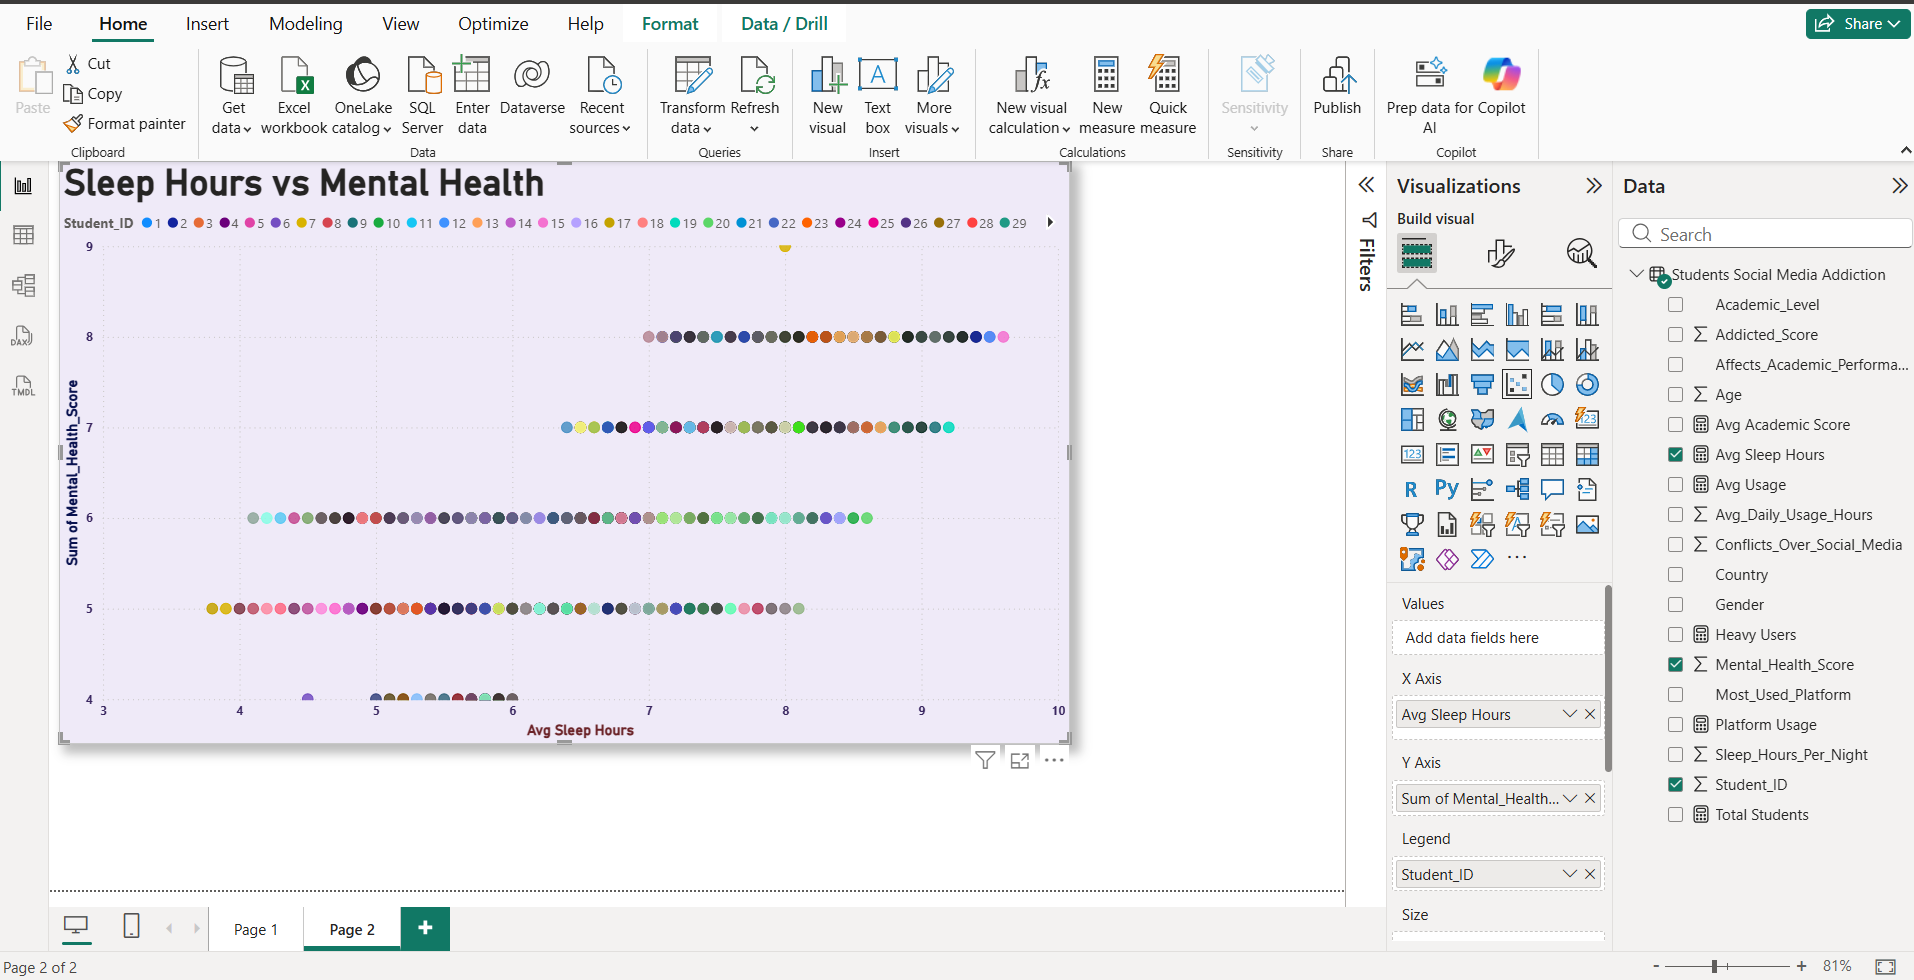

Layout of this report page (visuals, bound fields, positions):
{"tool":"powerbi","page":{"name":"Page 2","canvas":[1280,720],"ordinal":1},"visuals":[{"type":"scatterChart","title":"Sleep Hours vs Mental Health","fields":{"Y":["Sum(Students Social Media Addiction.Mental_Health_Score)"],"X":["Students Social Media Addiction.Avg Sleep Hours"],"Series":["Students Social Media Addiction.Student_ID"]},"box":[9.9,0,998.8,575.3],"z":0}]}

Visuals, with their boxes on the page's 1280x720 design canvas (x1, y1, x2, y2). These are canvas units, not pixel positions in the 1914x980 screenshot, which may show the page scaled, cropped or inside an application window:
"Sleep Hours vs Mental Health" scatterChart: l=10, t=0, r=1009, b=575
